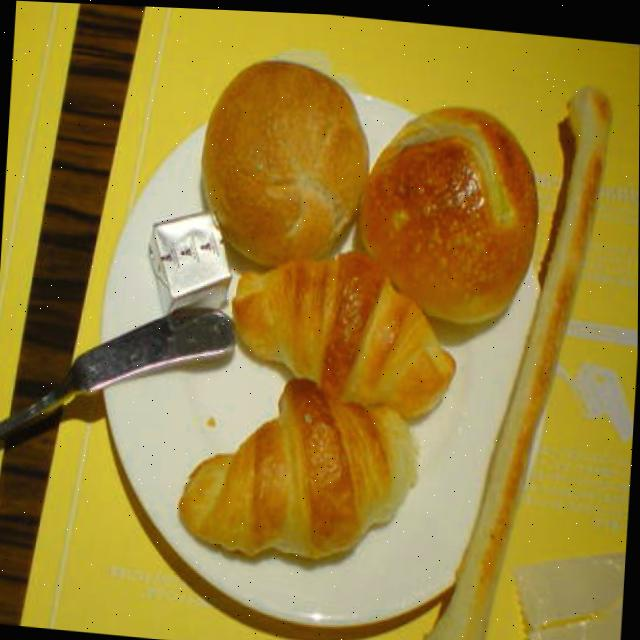面包点心: (174, 354, 455, 576)
